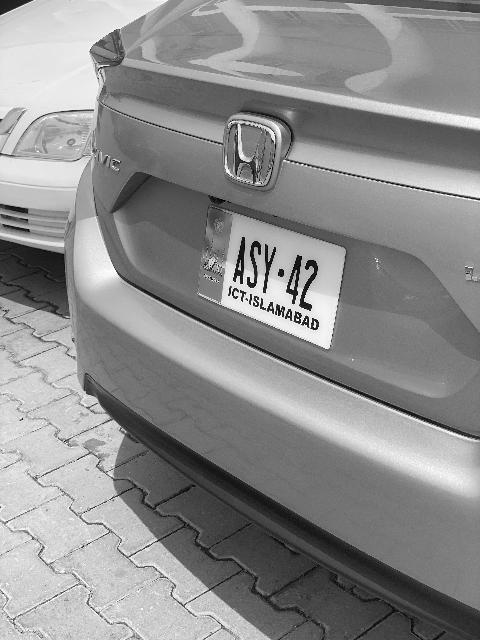Number: (228, 231, 327, 316)
